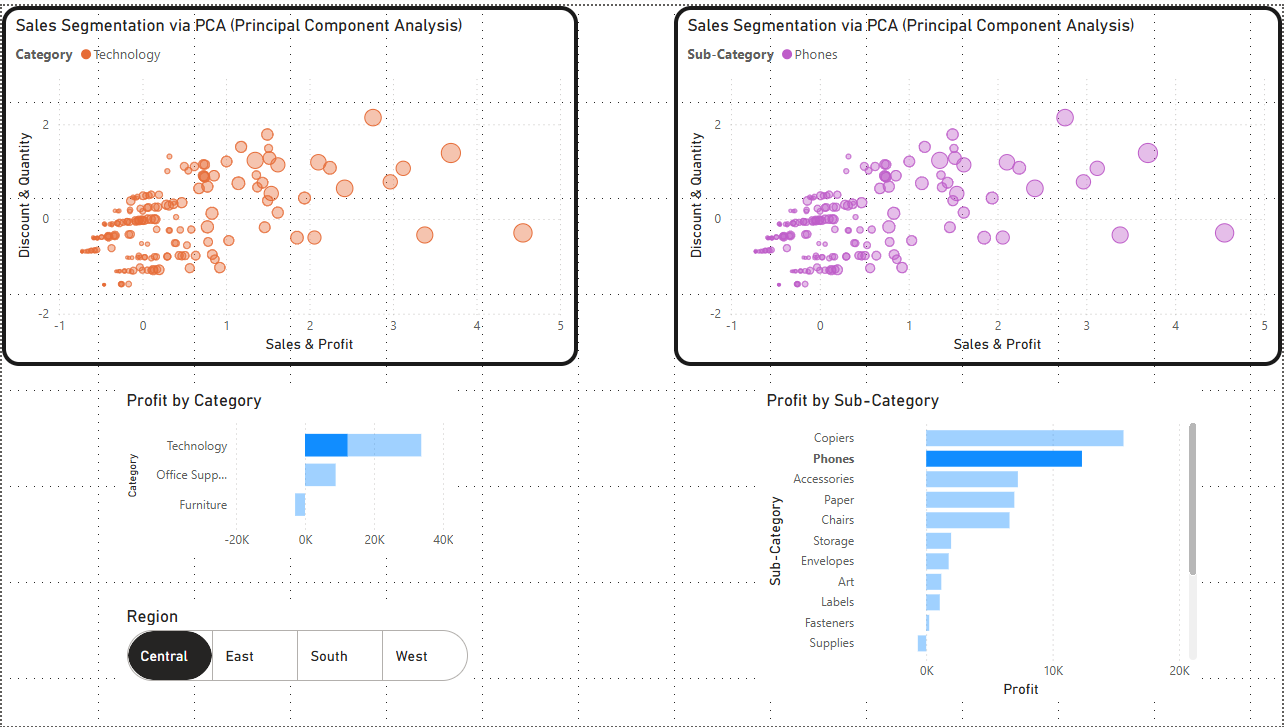

Layout of this report page (visuals, bound fields, positions):
{"tool":"powerbi","page":{"name":"Page 1","canvas":[1280,720],"ordinal":0},"visuals":[{"type":"scatterChart","title":"Sales Segmentation via PCA (Principal Component Analysis)","fields":{"X":["superstore_sales_with_pca.PC1"],"Y":["superstore_sales_with_pca.PC2"],"Series":["superstore_sales_with_pca.Category"],"Size":["superstore_sales_with_pca.Sales_Size"]},"box":[0,0,560,360],"z":0},{"type":"clusteredBarChart","fields":{"Category":["superstore_sales_with_pca.Category"],"Y":["Sum(superstore_sales_with_pca.Profit)"]},"box":[96,400,336,168],"z":1000},{"type":"scatterChart","title":"Sales Segmentation via PCA (Principal Component Analysis)","fields":{"X":["superstore_sales_with_pca.PC1"],"Y":["superstore_sales_with_pca.PC2"],"Size":["superstore_sales_with_pca.Sales_Size"],"Series":["superstore_sales_with_pca.Sub-Category"]},"box":[728,0,552,360],"z":2000},{"type":"clusteredBarChart","fields":{"Category":["superstore_sales_with_pca.Sub-Category"],"Y":["Sum(superstore_sales_with_pca.Profit)"]},"box":[824,384,440,312],"z":3000},{"type":"advancedSlicerVisual","fields":{"Values":["superstore_sales_with_pca.Region"]},"box":[0,640,352,80],"z":4000},{"type":"textbox","box":[496,376,296,232],"z":4001}]}

Visuals, with their boxes in screenshot pixels (x1, y1, x2, y2), scaled from the page's 1280x720 canvas onto the 1285x727 screenshot:
"Sales Segmentation via PCA (Principal Component Analysis)" scatterChart: region(0, 0, 562, 364)
clusteredBarChart - superstore_sales_with_pca.Category x Sum(superstore_sales_with_pca.Profit): region(96, 404, 434, 574)
"Sales Segmentation via PCA (Principal Component Analysis)" scatterChart: region(731, 0, 1284, 364)
clusteredBarChart - superstore_sales_with_pca.Sub-Category x Sum(superstore_sales_with_pca.Profit): region(827, 388, 1269, 703)
advancedSlicerVisual - superstore_sales_with_pca.Region: region(0, 646, 353, 726)
textbox: region(498, 380, 795, 614)
